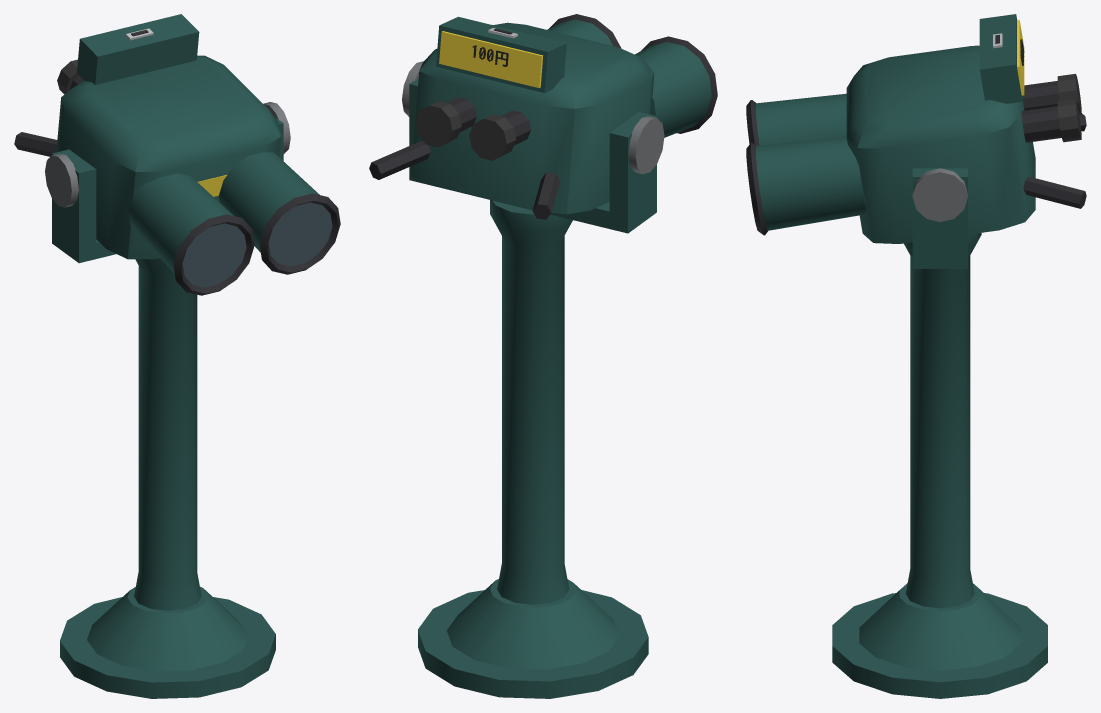
Rendered from telescope.glb.
3 renders of one model, left to right at view 1: azimuth 30°, elevation 25°; view 2: azimuth 150°, elevation 25°; view 3: azimuth 270°, elevation 25°, orthographic. The views are drawn at different scales.
Parts seen in each view (by area): view 1: telescope_body; view 2: telescope_body; view 3: telescope_body.
Part boxes in pixels (x1,y1,x2,y2): telescope_body: (14,14,340,698); telescope_body: (369,14,717,698); telescope_body: (746,14,1086,698).
Size of what is drawn, in the model's own units: 0.56 by 1.47 by 0.7385.
